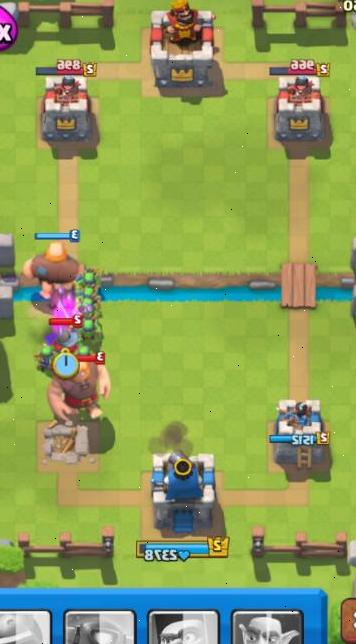enemy_giant: (44, 351, 113, 423)
enemy_knight: (41, 314, 80, 354)
player_giant: (18, 233, 85, 298)
player_spear_goblins: (75, 316, 104, 348), (74, 290, 104, 319), (75, 265, 100, 294), (77, 283, 105, 308)
